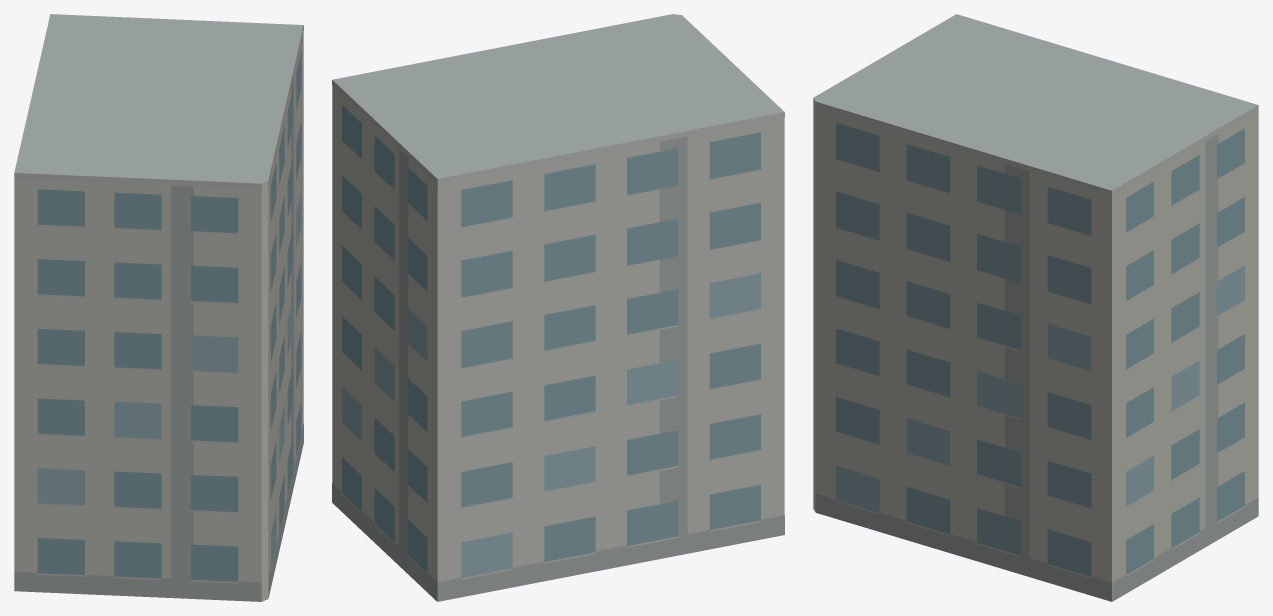
File: survey-upis-32537707.glb
3 views of the same model, side by side, from view 1: azimuth 30°, elevation 25°; view 2: azimuth 150°, elevation 25°; view 3: azimuth 270°, elevation 25° (orthographic). The views are drawn at different scales.
Visible parts, largest first — view 1: survey-upis-32537707.tmp; view 2: survey-upis-32537707.tmp; view 3: survey-upis-32537707.tmp.
Part boxes in pixels (x1,y1,x2,y2): survey-upis-32537707.tmp: (14,14,303,601); survey-upis-32537707.tmp: (332,14,784,601); survey-upis-32537707.tmp: (813,14,1258,601).
Bounding box in the file's own units: 16.88 × 18.3 × 17.98.
